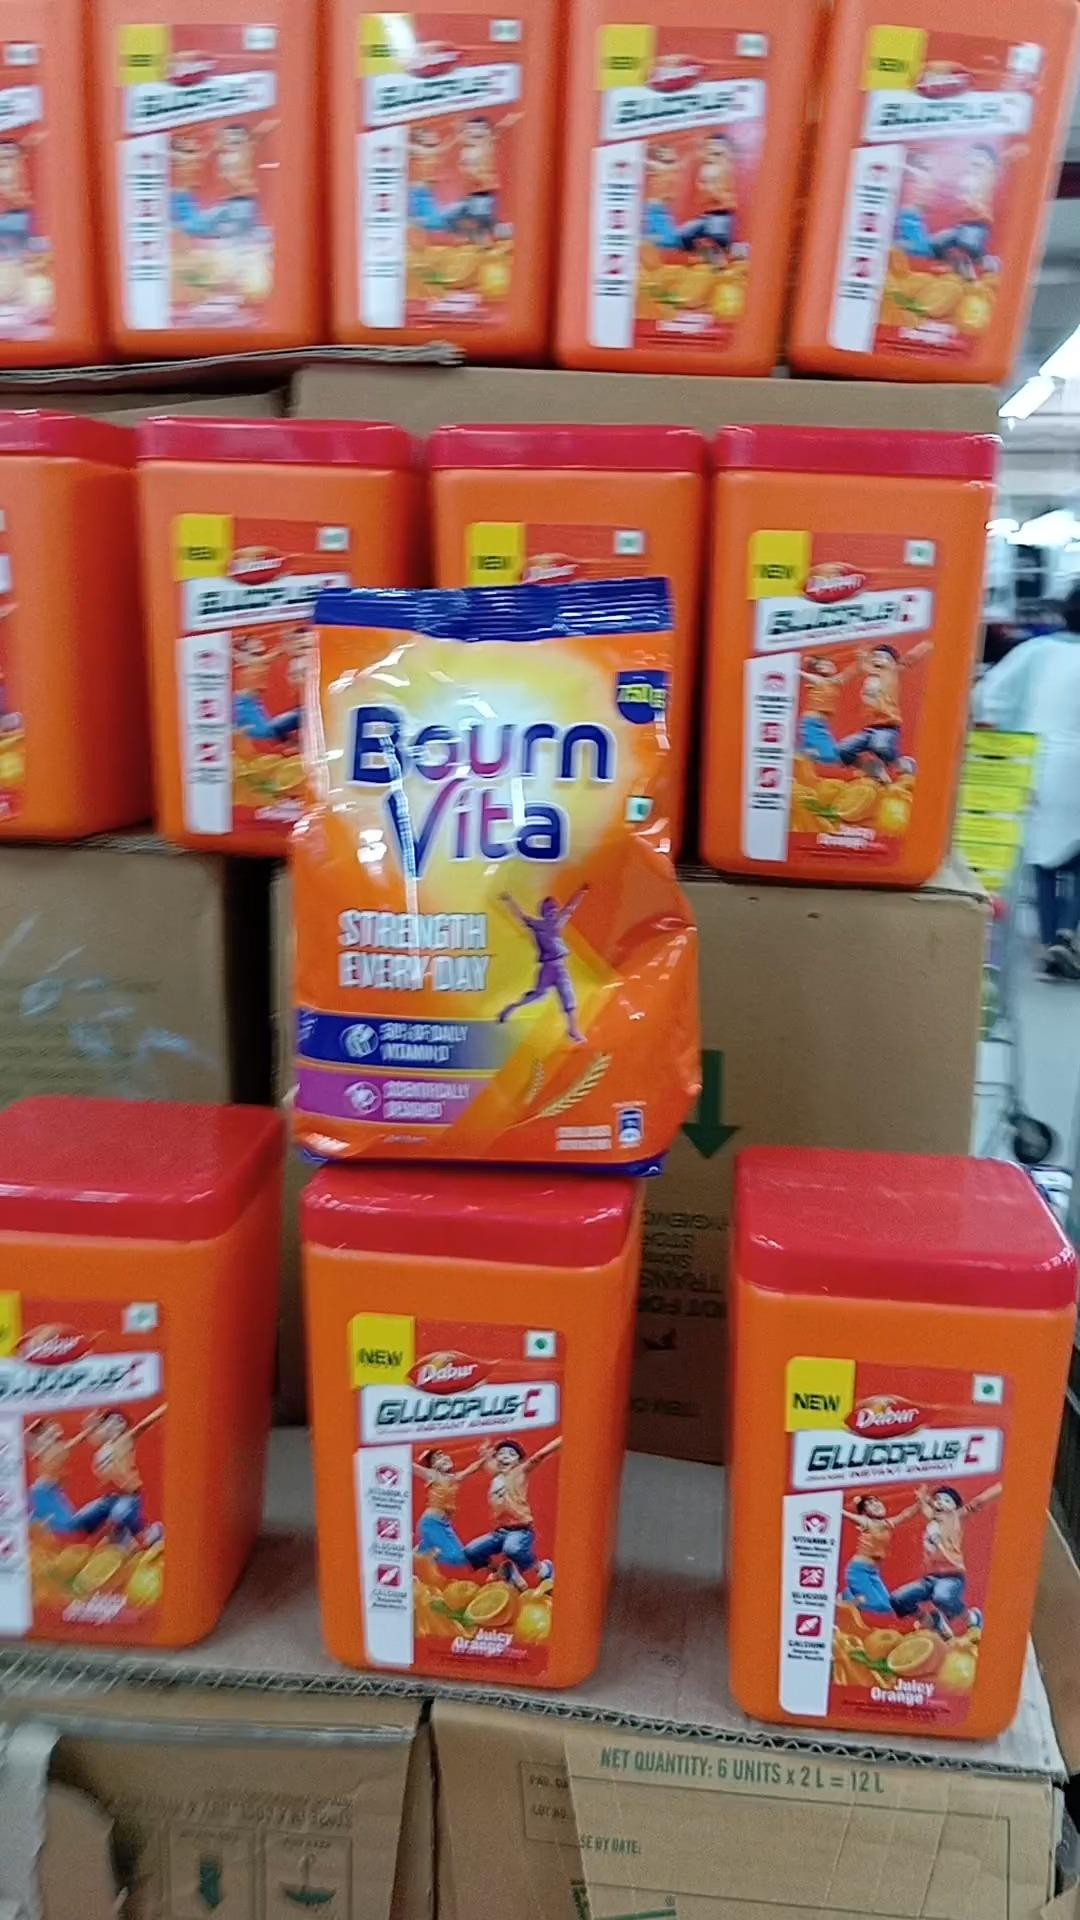BOURN_VITA_750_G_POUCH: (307, 587, 688, 1168)
